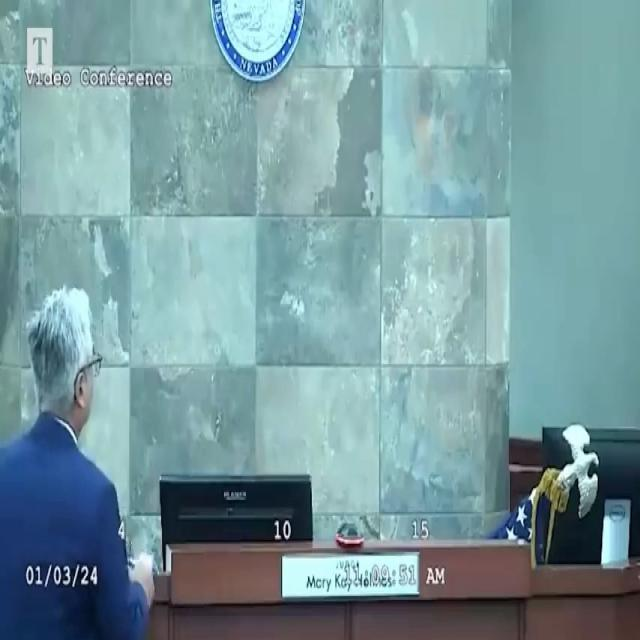non-fight: (0, 283, 157, 640)
